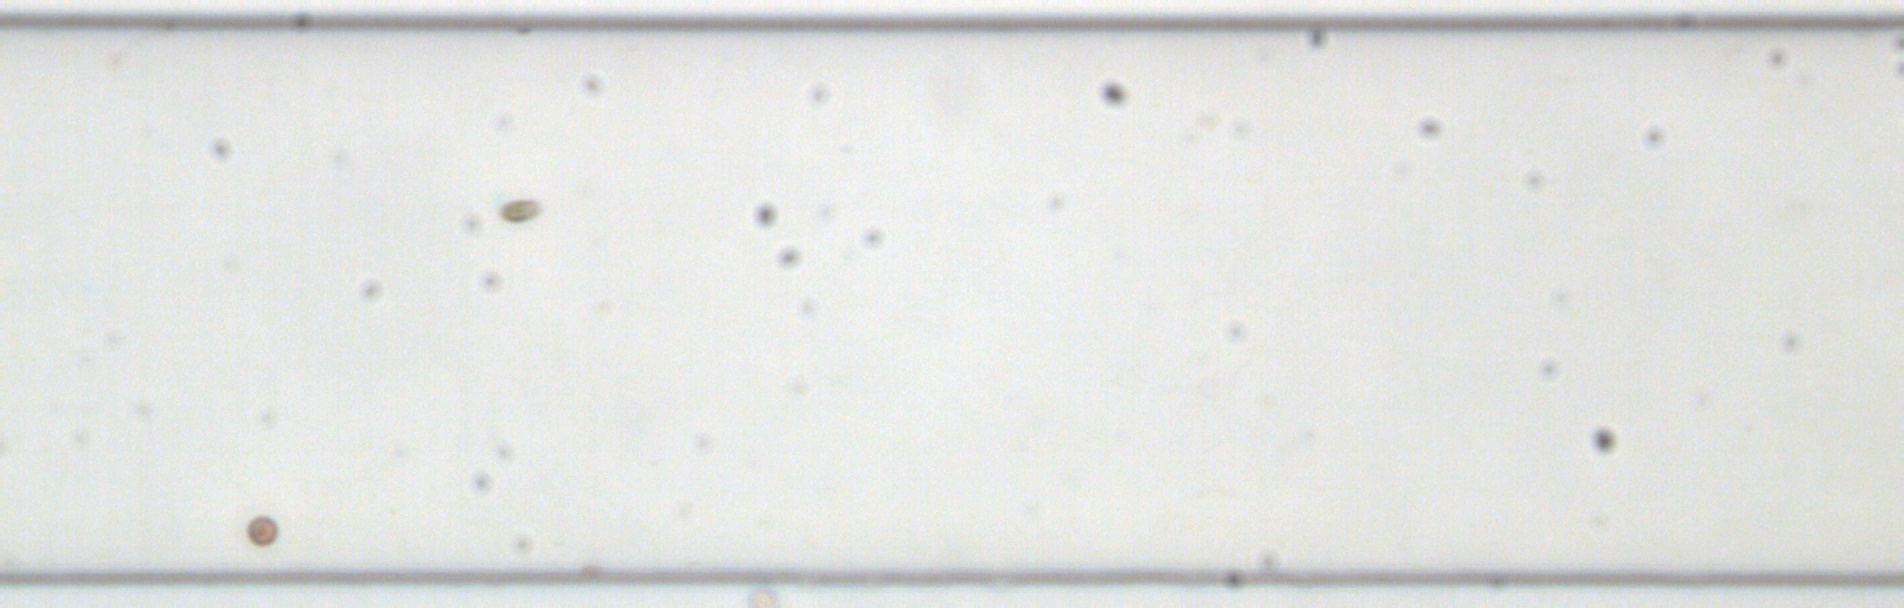Dunaliella salina: (497, 195, 542, 225)
Porphyridium: (243, 513, 279, 547)
